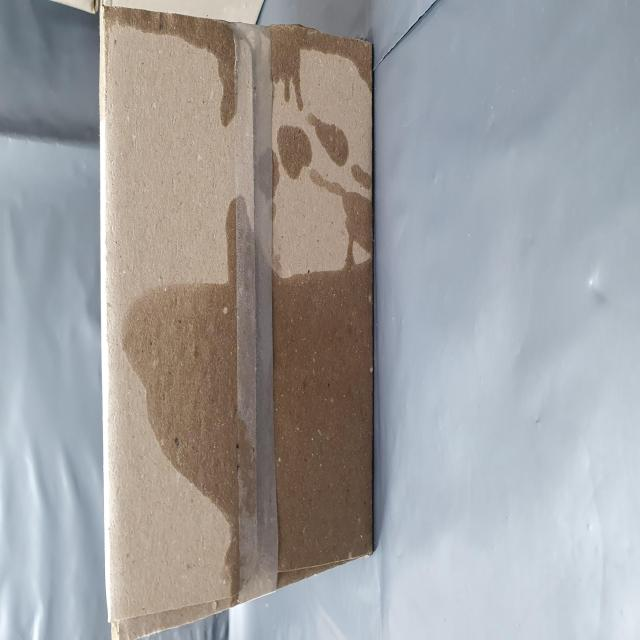wet: (40, 224, 207, 640)
